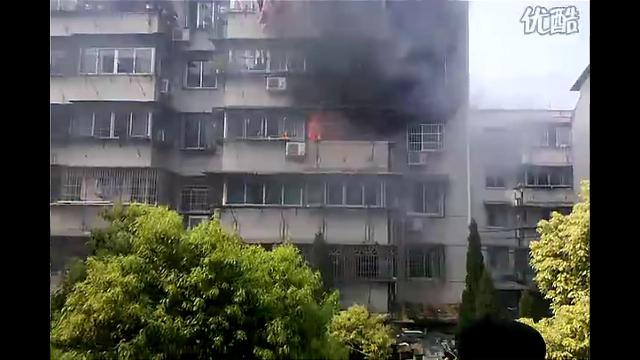smoke: (282, 10, 468, 126)
